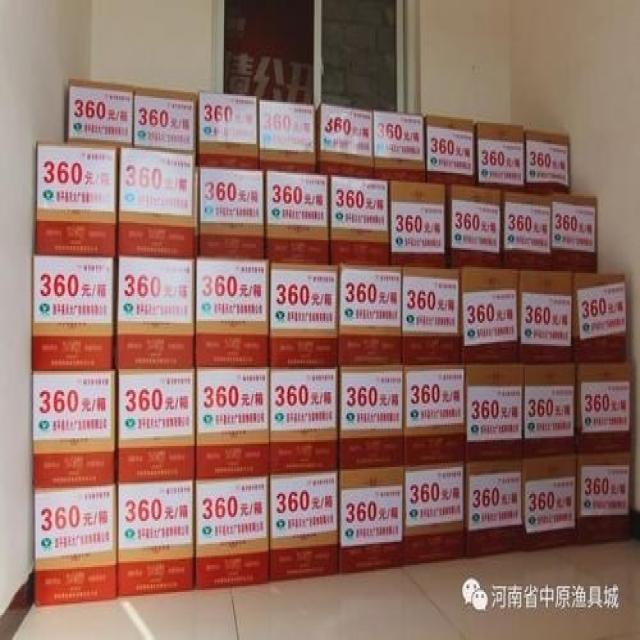box: (33, 482, 116, 607), (32, 256, 118, 371), (35, 140, 120, 256), (32, 371, 116, 488), (116, 367, 196, 482), (116, 480, 195, 596), (115, 258, 196, 369), (118, 148, 196, 258), (195, 477, 269, 590), (196, 365, 269, 479), (195, 258, 270, 367), (269, 471, 339, 580), (269, 367, 338, 475), (269, 265, 338, 367), (338, 467, 403, 575), (338, 367, 404, 469), (337, 267, 402, 367), (403, 461, 465, 565), (195, 167, 265, 259), (264, 171, 330, 267), (403, 367, 465, 465), (403, 269, 462, 369), (463, 457, 522, 557), (465, 363, 524, 461), (462, 269, 520, 367), (329, 177, 390, 267), (521, 454, 576, 552), (389, 179, 447, 269), (576, 450, 631, 544), (520, 269, 573, 363), (196, 92, 259, 171), (522, 363, 576, 455), (65, 77, 134, 148), (572, 273, 626, 363), (576, 363, 630, 452), (445, 185, 500, 269), (257, 100, 316, 175), (316, 104, 374, 179), (133, 85, 196, 154), (500, 188, 552, 271), (372, 111, 426, 183), (552, 194, 598, 275), (475, 121, 525, 190), (426, 115, 475, 185), (525, 129, 570, 196)
